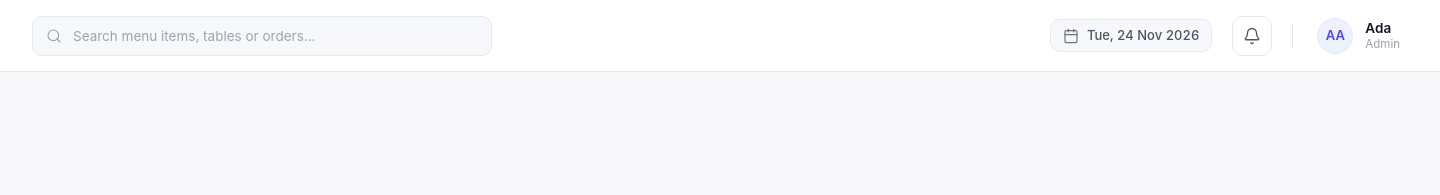
Test case: TopBar install affordance › shows the short iOS hint instead of a button
Click the text "Ada": (1378,28) [1365, 20, 1391, 36]
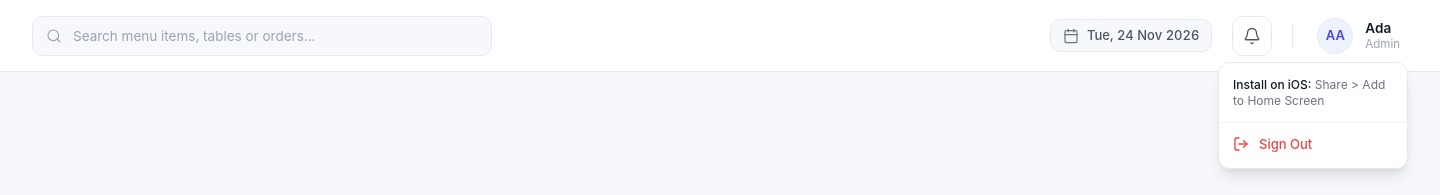
Now the text "Install on iOS: Share > Add to Home Screen" is shown, box [1233, 76, 1385, 108]
